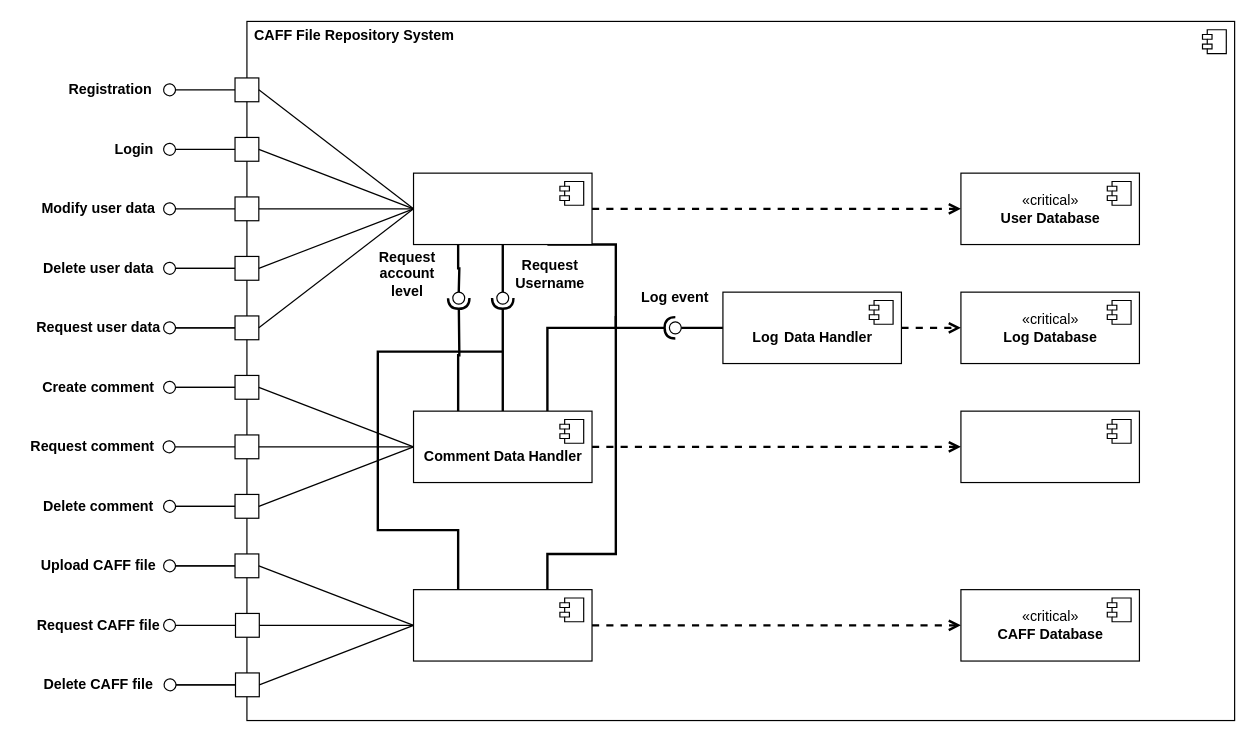
Image size: 1255x741. Some labels were removed from this diagram. Here are the shapes that lost their labels. From the top down, the centre of each, then its label:
(502,208): User Data Handler
(1049,446): «critical» Comment Database
(502,624): CAFF Data Handler
